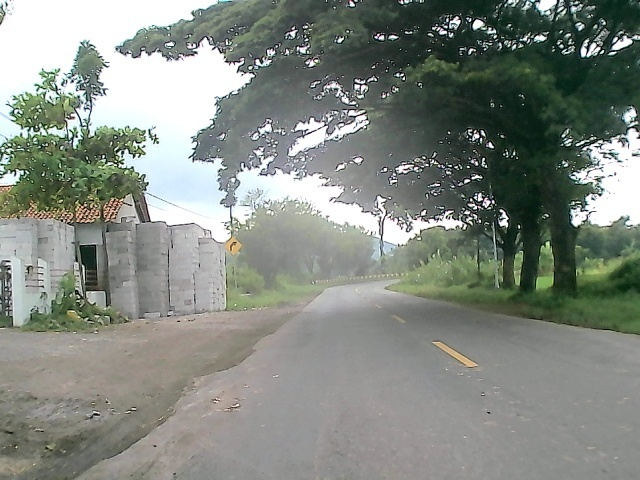Tikungan ke kanan: (224, 234, 243, 255)
